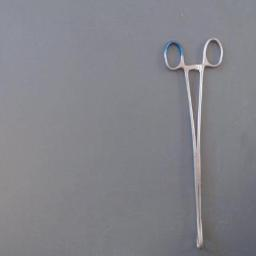Sponge Forceps: (160, 33, 226, 253)
